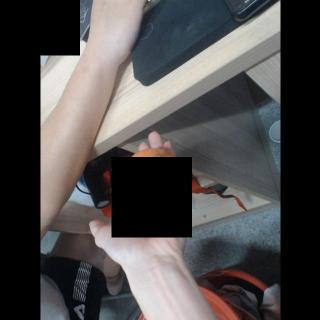carrot: (113, 148, 185, 210)
